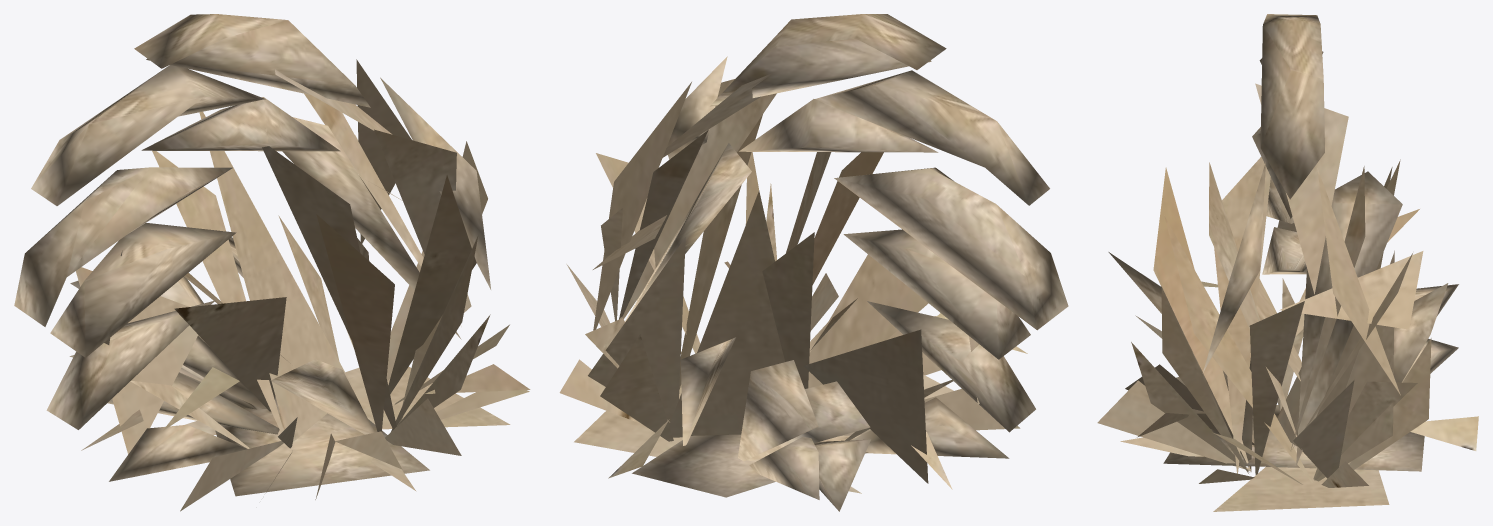
Rendered from rl_isle_seed.glb.
3 renders of one model, left to right at view 1: azimuth 30°, elevation 25°; view 2: azimuth 150°, elevation 25°; view 3: azimuth 270°, elevation 25°, orthographic. The views are drawn at different scales.
Visible parts, largest first — view 1: kit-feather-grass-2; view 2: kit-feather-grass-2; view 3: kit-feather-grass-2.
Part boxes in pixels (<box>): kit-feather-grass-2: <box>14,14,530,511</box>; kit-feather-grass-2: <box>559,14,1068,511</box>; kit-feather-grass-2: <box>1097,14,1478,511</box>.
Size of the model in its own units: 0.8883 by 0.85 by 0.7438.
Materials: 1 (1 with a texture image).
